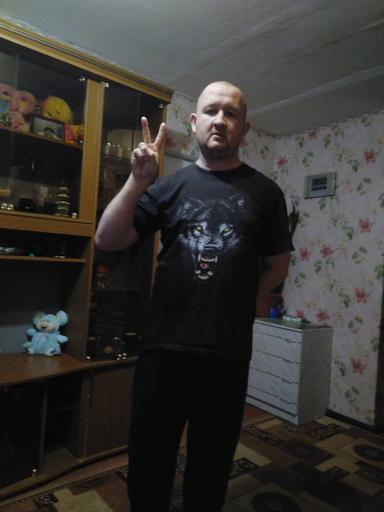peace: (128, 114, 169, 186)
